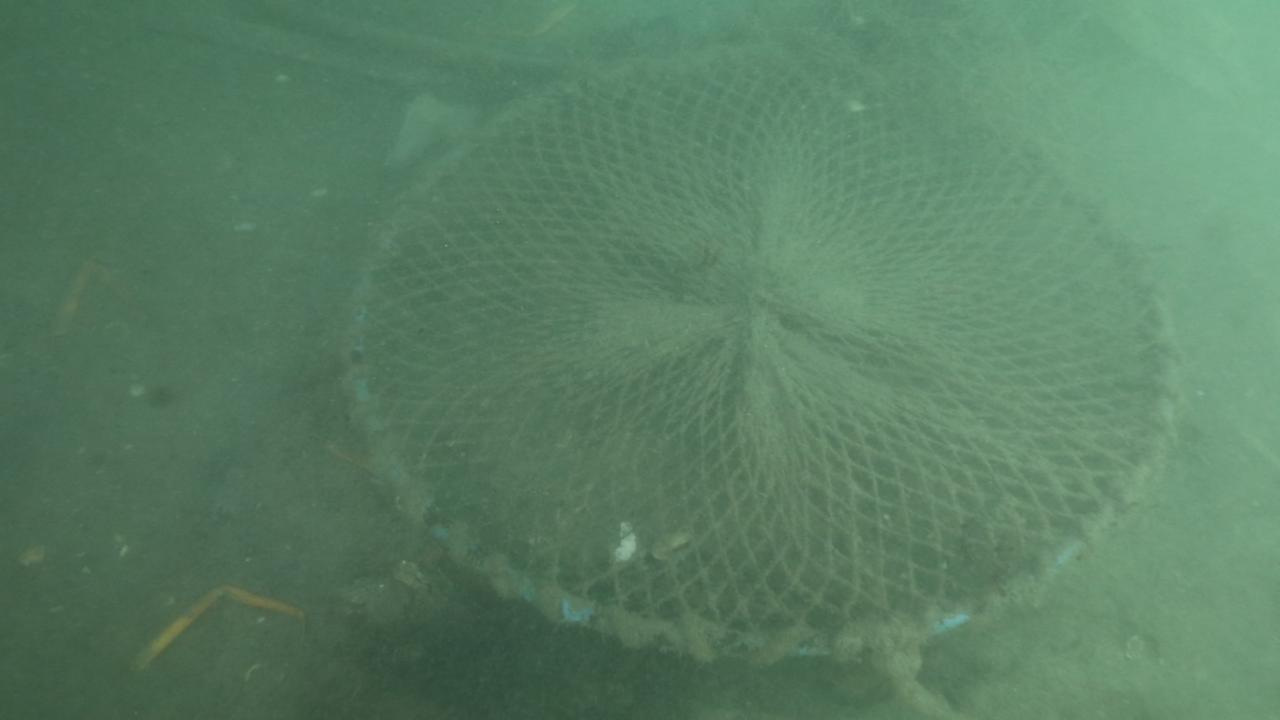bundle of ropes: (870, 622, 1013, 720)
circular fish trap: (343, 29, 1189, 658)
